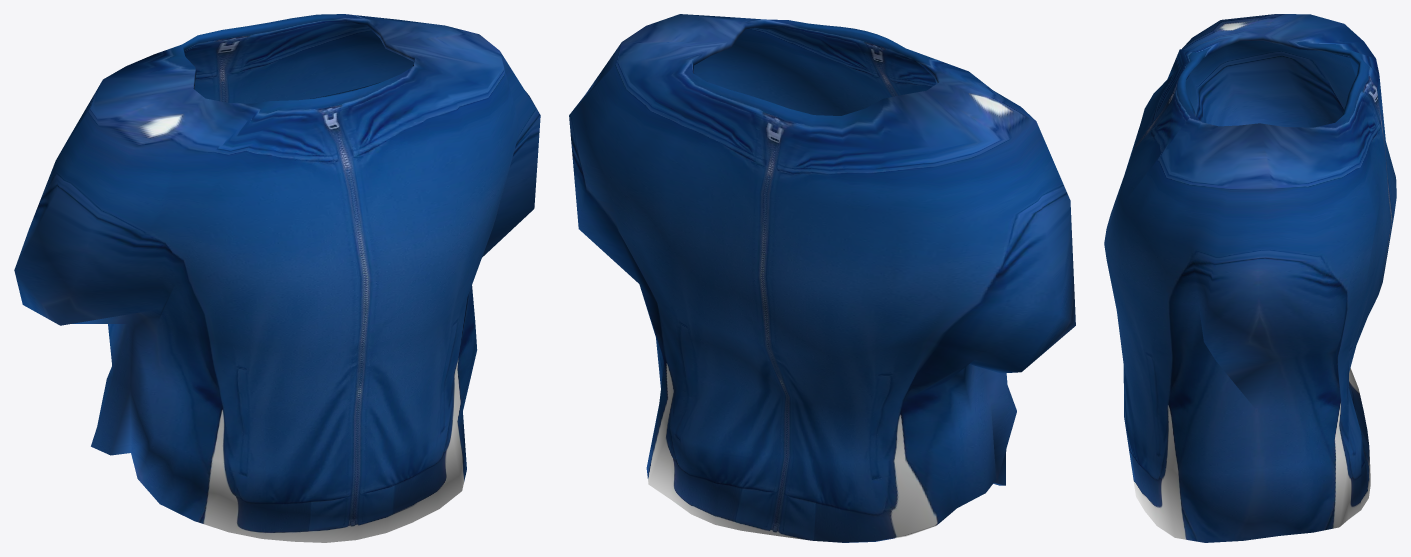
Rendered from 6fc30f83-f9db-4f02-9d8f-53f3fed8aa97.glb.
The picture shows the model from 3 angles, left to right: view 1: azimuth 30°, elevation 25°; view 2: azimuth 150°, elevation 25°; view 3: azimuth 270°, elevation 25°; orthographic projection. The views are drawn at different scales.
Visible parts, largest first — view 1: garment; view 2: garment; view 3: garment.
Boxes of the visible parts, x1=… form: garment: x1=14, y1=14, x2=540, y2=542; garment: x1=569, y1=14, x2=1075, y2=542; garment: x1=1104, y1=14, x2=1396, y2=542.
Bounding box in the file's own units: 0.5822 × 0.4878 × 0.3193.
1 material, 1 textured.
